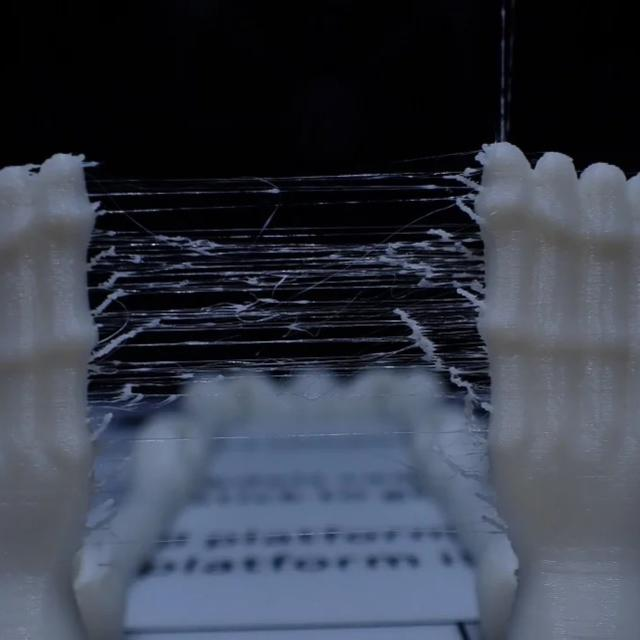Stringing: (26, 139, 556, 426)
